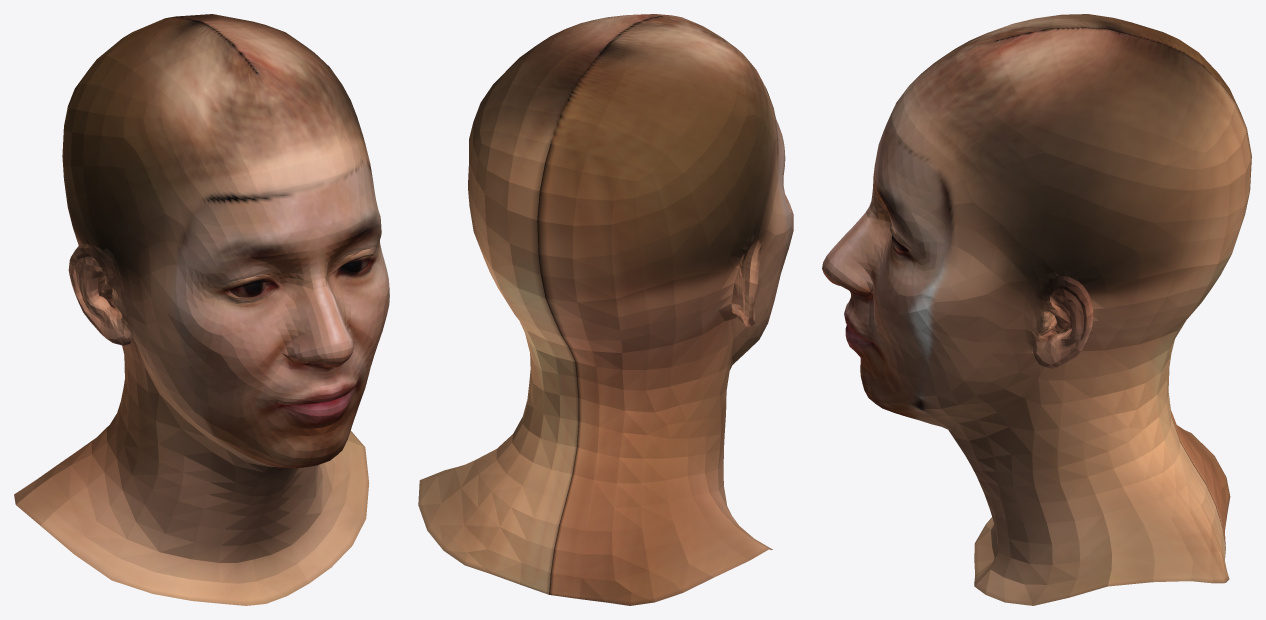
3 views of the same model, side by side, from view 1: azimuth 30°, elevation 25°; view 2: azimuth 150°, elevation 25°; view 3: azimuth 270°, elevation 25° (orthographic). The views are drawn at different scales.
Visible parts, largest first — view 1: 1717483159; view 2: 1717483159; view 3: 1717483159.
Part boxes in pixels (x1,y1,x2,y2): 1717483159: (14,14,389,605); 1717483159: (418,14,793,605); 1717483159: (822,14,1251,605).
Bounding box in the file's own units: 20.63 × 32 × 22.74.
Materials: 1 (1 with a texture image).
